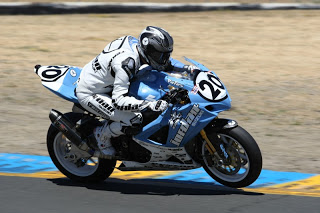helmet: (136, 22, 174, 70)
